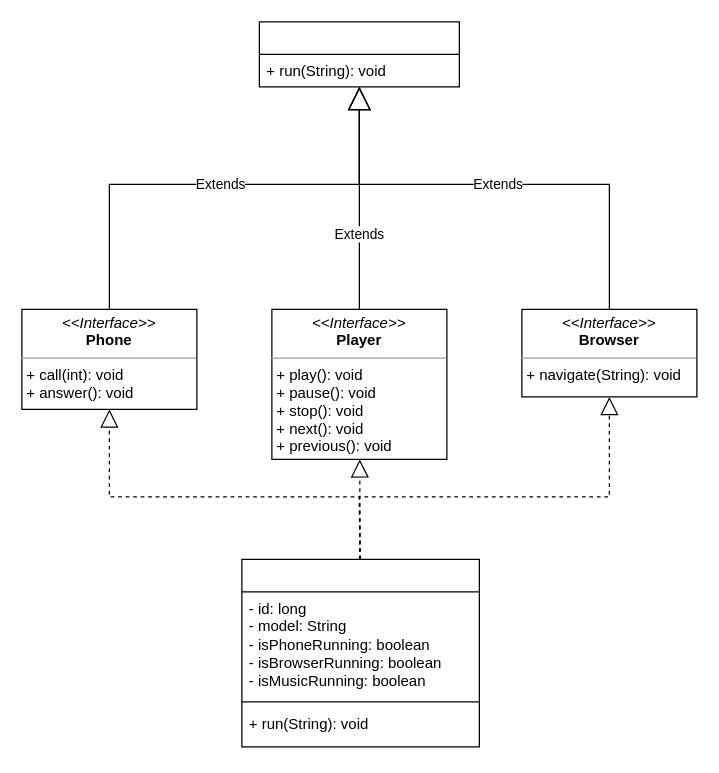
This 719x773 diagram has some shape labels left out. The shapes that lost their labels are listed below. From the top down, each one's box as (x1, y1, x2, y2) in pixels, then its label:
(258, 21, 459, 87): App
(241, 558, 479, 747): IPhone
